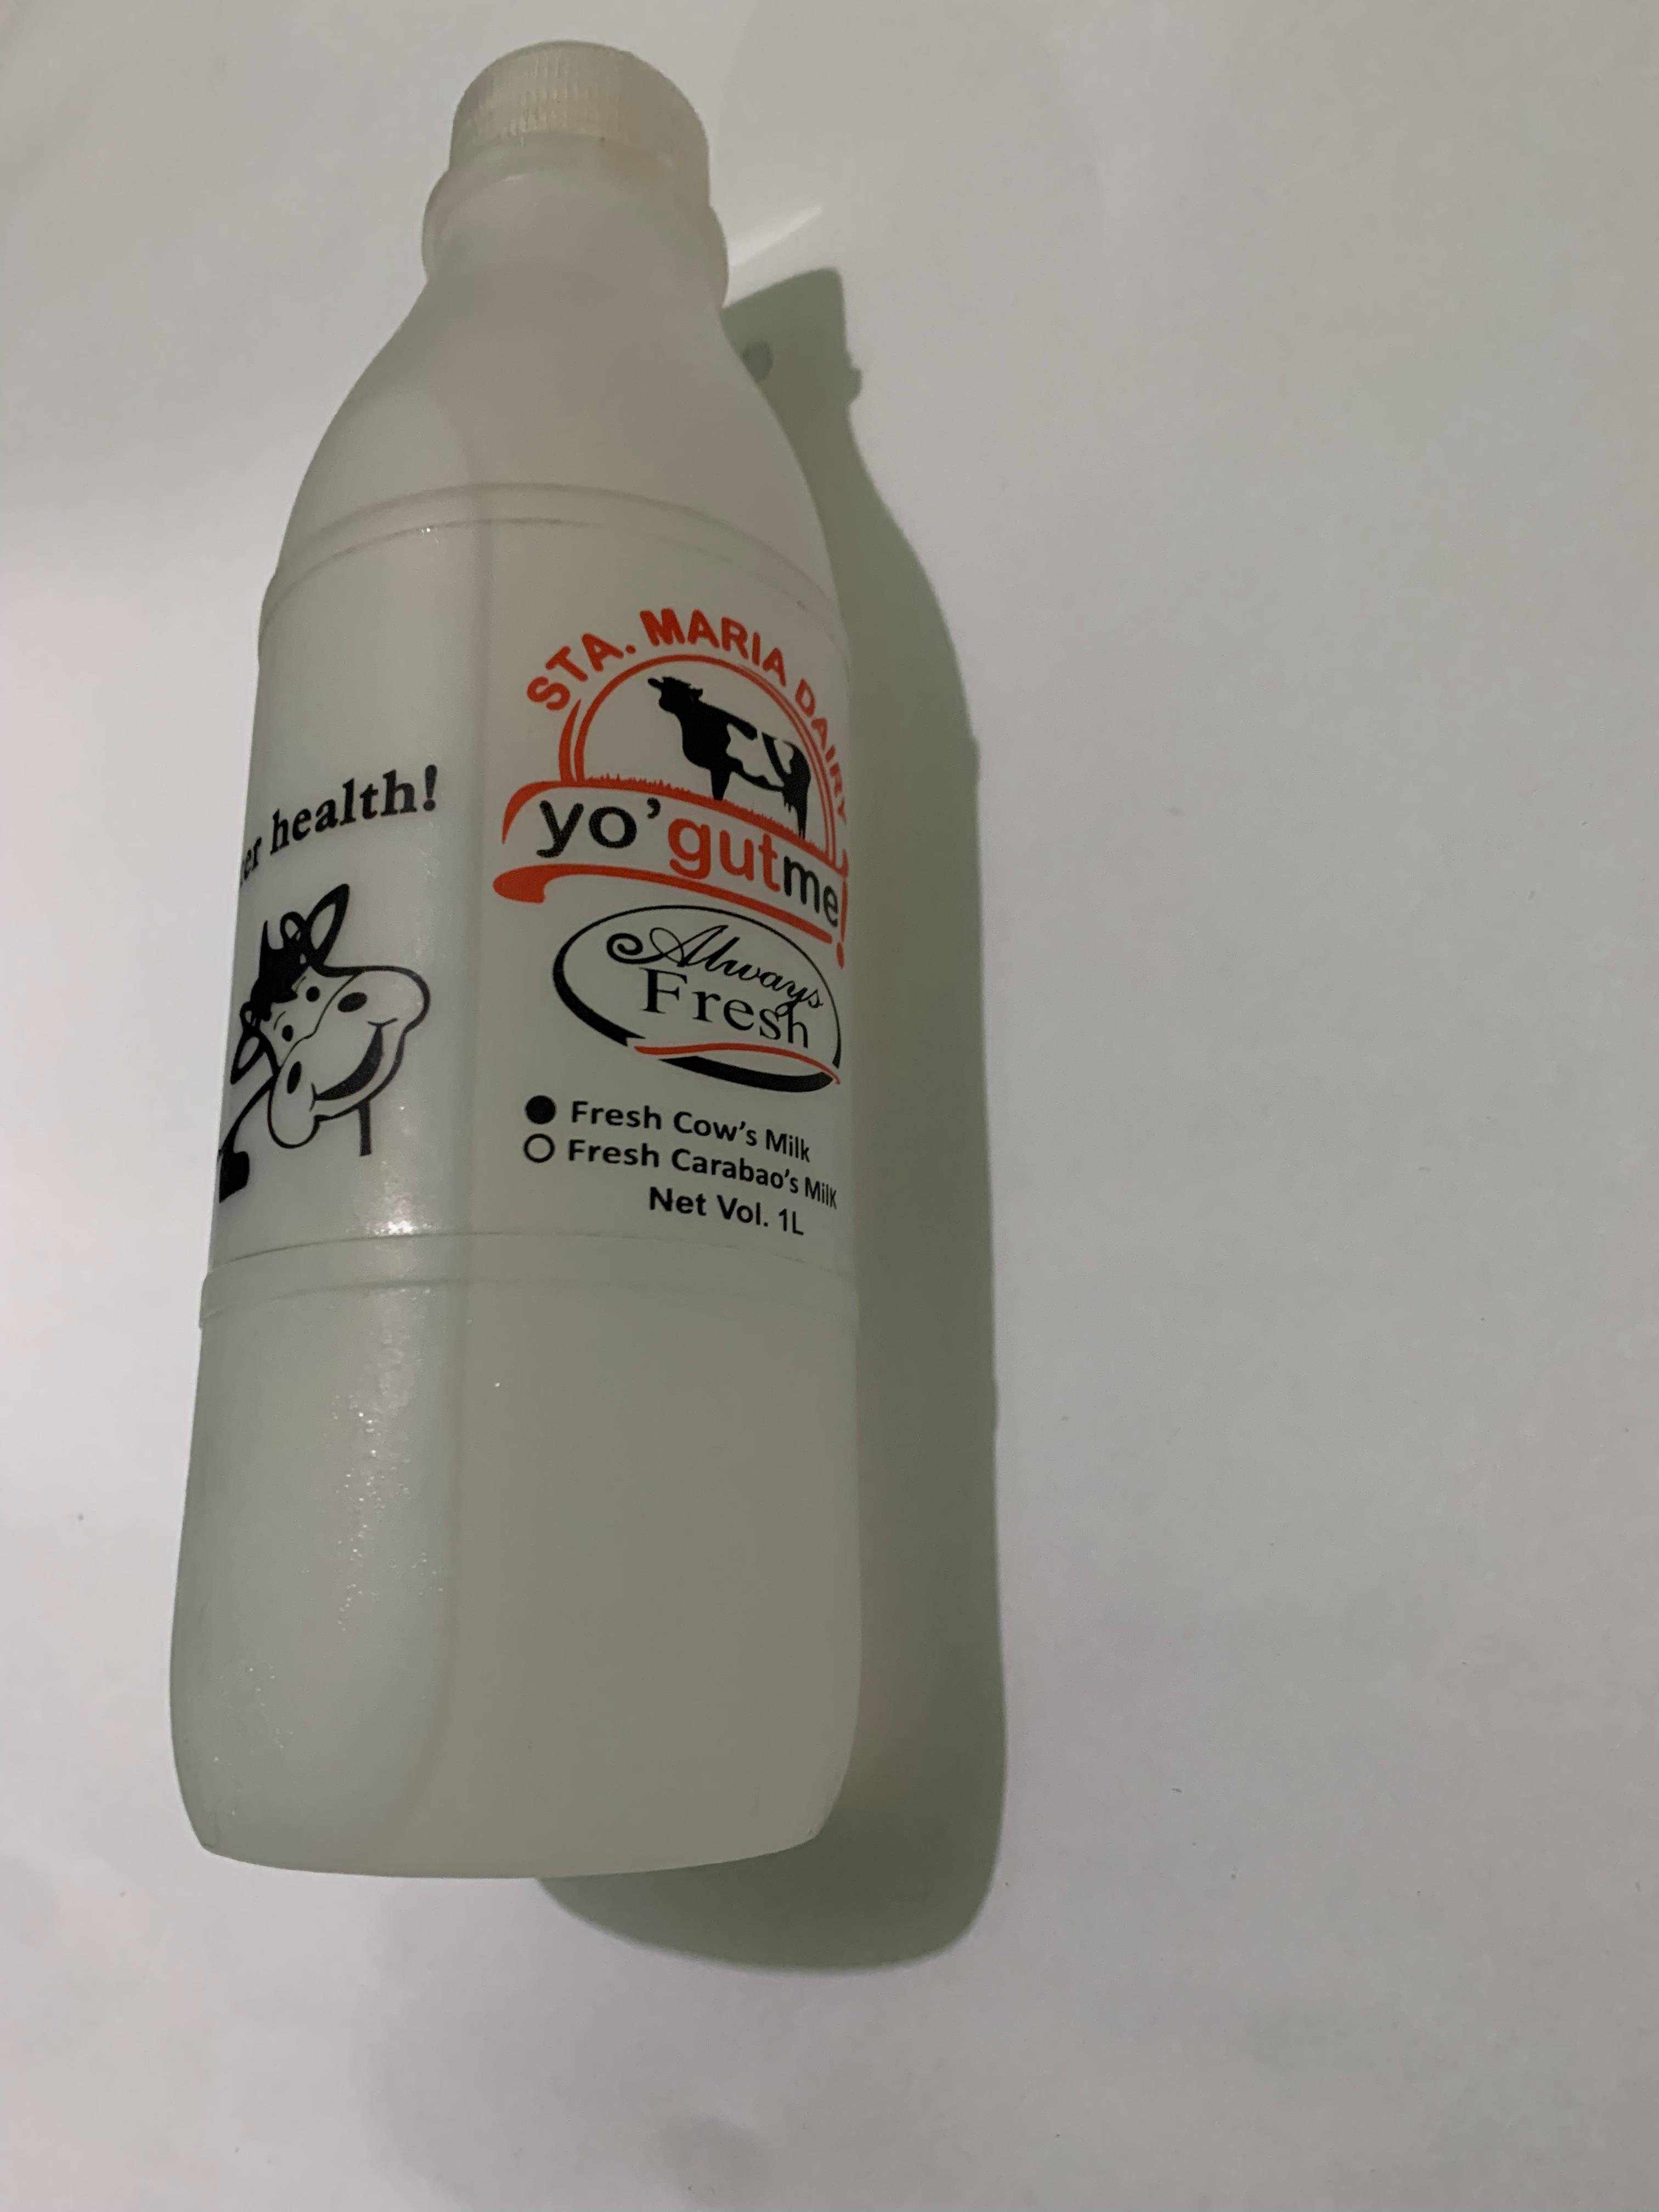bottle: (159, 28, 877, 1888)
